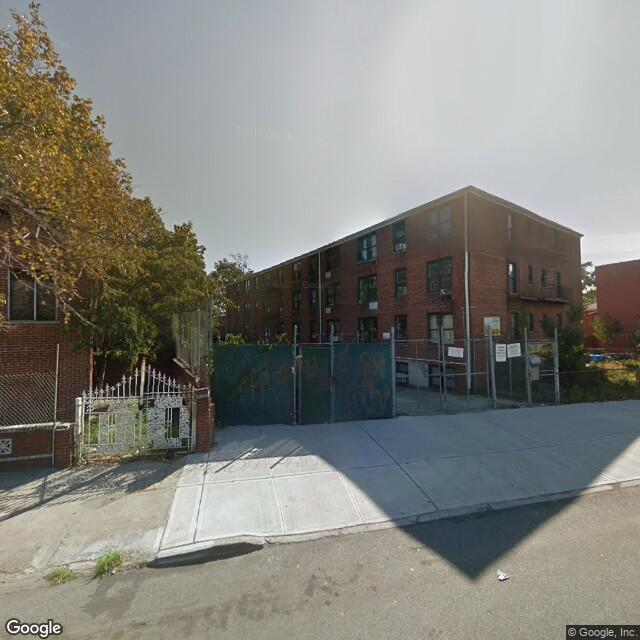litter: (495, 568, 507, 582), (111, 567, 116, 571)
